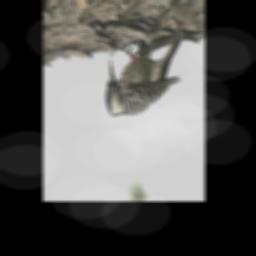Woodpecker: (105, 33, 183, 117)
